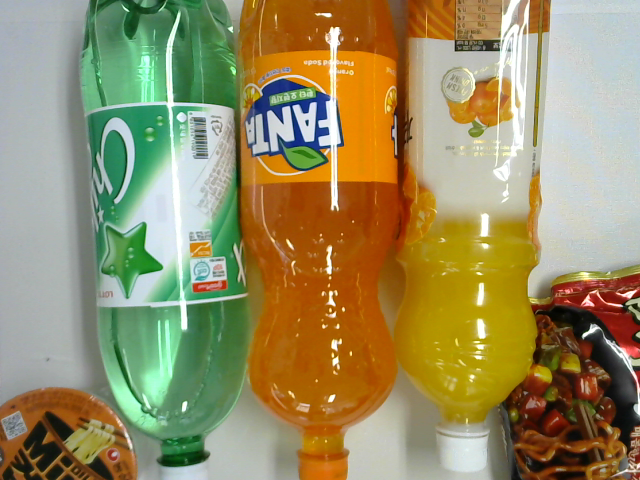Chilseong_Cider_1.5L: (75, 2, 247, 480)
Hwanta_Orange_1.5L: (240, 1, 401, 480)
Jeju_Tangerine_1.5L: (396, 1, 551, 474)
Sichuan_Chapaghetti: (499, 263, 638, 480)
Udongmini: (1, 386, 138, 480)
